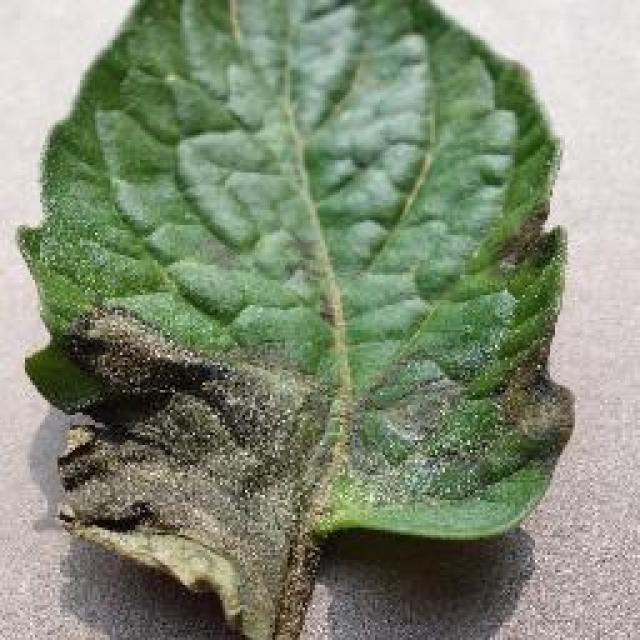Tomato Late Blight: (57, 198, 563, 617)
